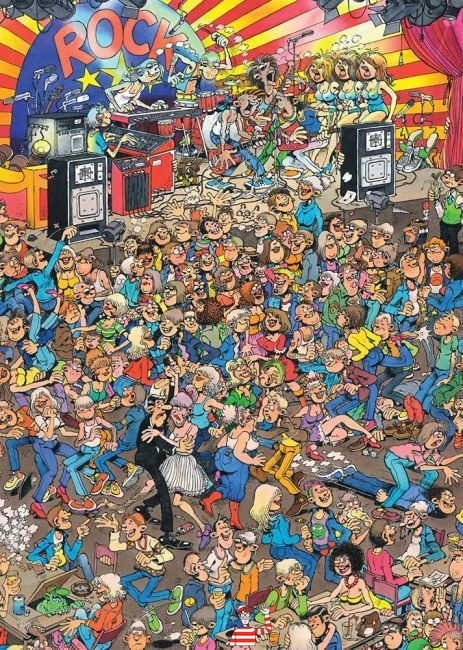waldo: (229, 603, 272, 646)
